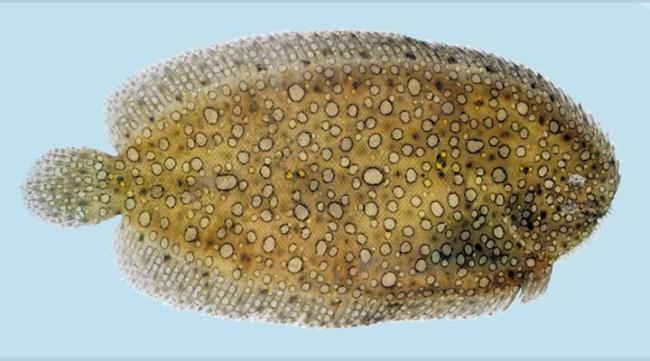fish: (19, 28, 622, 330)
